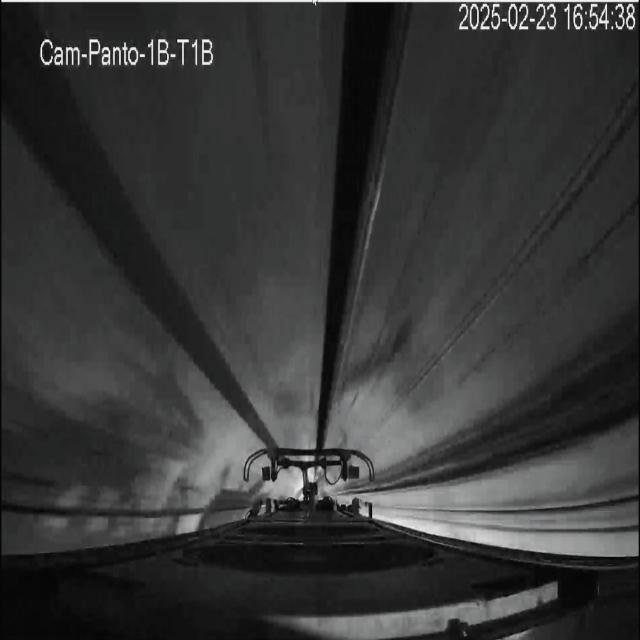Camera Stamp: (32, 23, 220, 71)
Date Stamp: (458, 3, 637, 33)
No - Spark: (245, 445, 375, 506)
